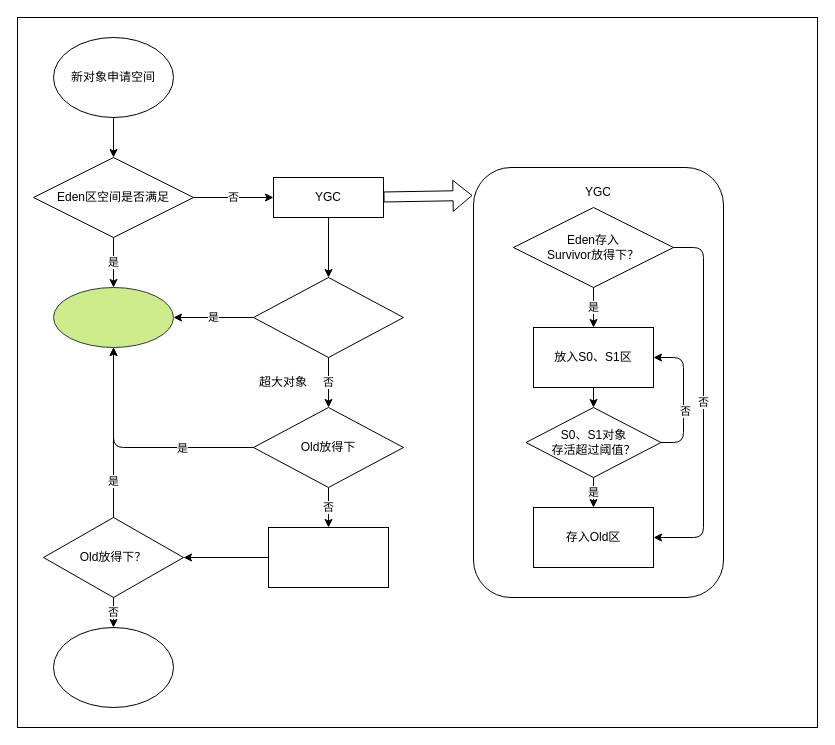
Some shapes in this 835 by 745 pixel diagram are drawn without their labels. Here are the shapes that lost their labels. From the top down, the centre of each, then its label:
(x=113, y=317): 分配对象内存
(x=328, y=317): Eden区放得下？
(x=328, y=557): FGC
(x=113, y=667): OOM
